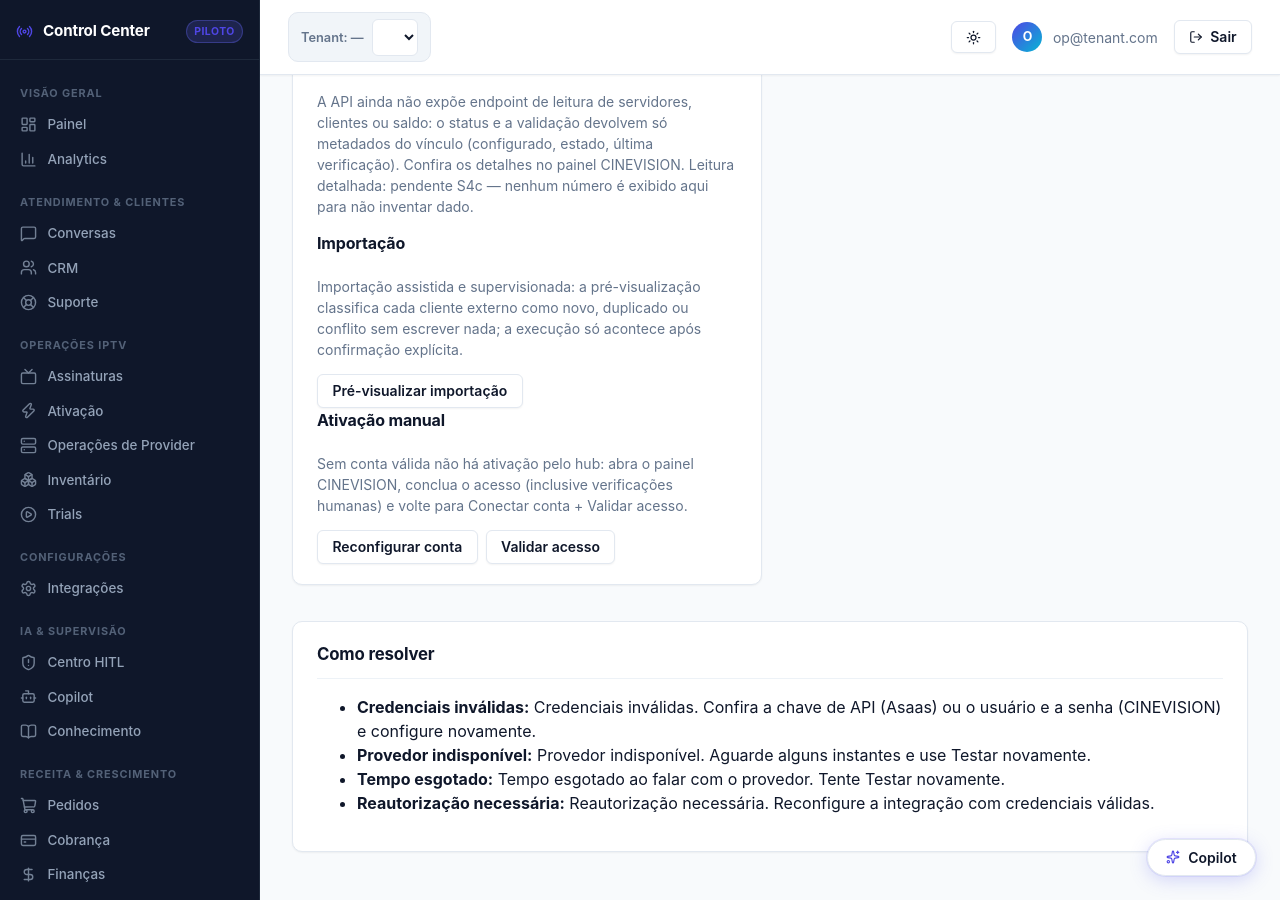
Test: CinevisionCard (S4b, #88) › validar acesso exibe CONNECTED_READ_ONLY com data e sem prometer write
(page scrolled)
Click the button "Validar acesso": (550, 547) [486,530,615,564]
(page scrolled)
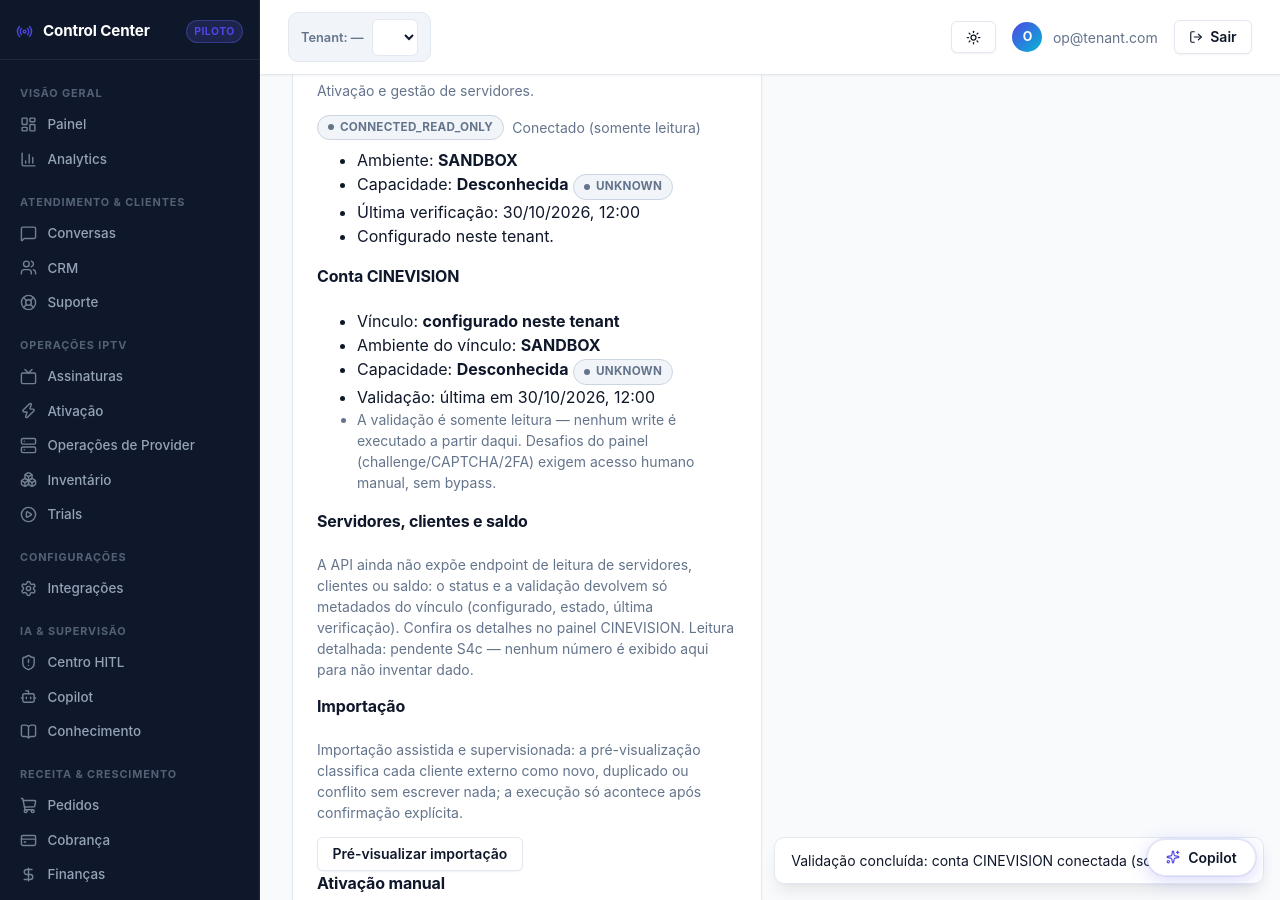
Expected: the heading "CINEVISION (Servidor/Ativação)" is shown, [317,29,737,66]
Expected: the text "Conectado (somente leitura)" is shown, [512,117,701,138]
